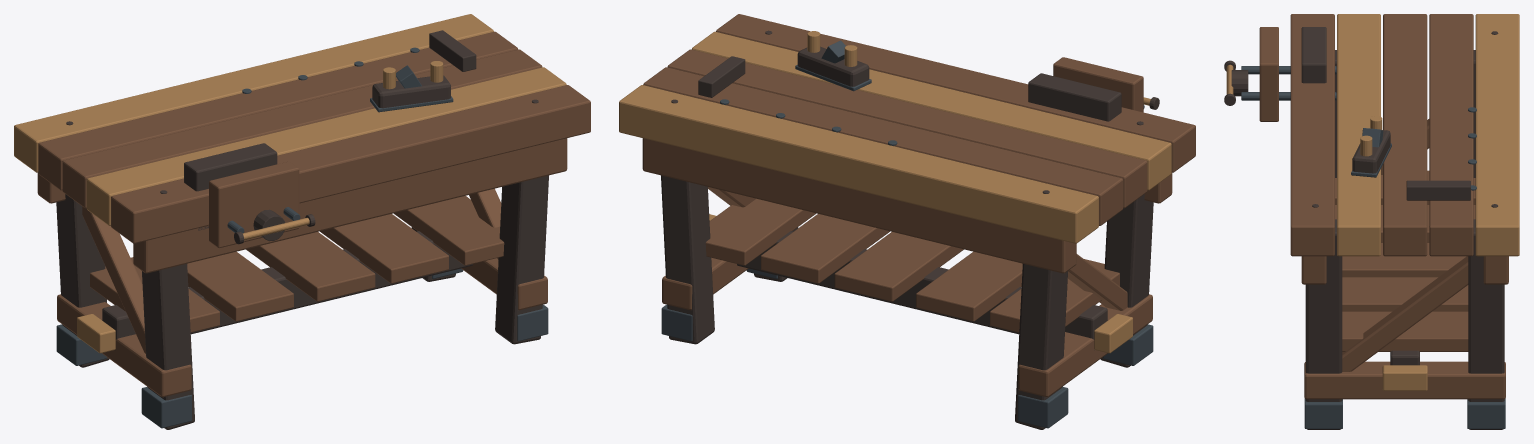
File: carpentry_workbench.glb
3 renders of one model, left to right at view 1: azimuth 30°, elevation 25°; view 2: azimuth 150°, elevation 25°; view 3: azimuth 270°, elevation 25°, orthographic. The views are drawn at different scales.
Parts seen in each view (by area): view 1: Thick top plank, Deep apron, Thick top plank.004, Thick top plank.003, Thick top plank.002, Thick top plank.001, Splayed trestle leg.002, Moving jaw.001, Lower slatted shelf.002, Lower slatted shelf.003, Splayed trestle leg, Lower slatted shelf.001 (+16 smaller); view 2: Thick top plank.004, Deep apron.001, Thick top plank.003, Thick top plank.002, Thick top plank.001, Thick top plank, Splayed trestle leg.003, Lower slatted shelf.002, Lower slatted shelf.003, Splayed trestle leg.001, Lower slatted shelf.001, Lower slatted shelf.004 (+14 smaller); view 3: Thick top plank.004, Thick top plank.002, Thick top plank.003, Thick top plank, Thick top plank.001, Trestle lower tie.001, Splayed trestle leg.002, Splayed trestle leg.003, Diagonal brace.001, Lower slatted shelf.004, Lower slatted shelf.003, Lower slatted shelf.002 (+13 smaller).
Part boxes in pixels (<box>): Thick top plank: <box>111,85,590,243</box>; Deep apron: <box>133,138,567,273</box>; Thick top plank.004: <box>14,14,493,172</box>; Thick top plank.003: <box>38,31,518,190</box>; Thick top plank.002: <box>62,49,542,207</box>; Thick top plank.001: <box>86,67,566,225</box>; Splayed trestle leg.002: <box>495,175,548,344</box>; Moving jaw.001: <box>209,161,299,248</box>; Lower slatted shelf.002: <box>246,232,375,301</box>; Lower slatted shelf.003: <box>320,214,448,283</box>; Splayed trestle leg: <box>142,264,194,429</box>; Lower slatted shelf.001: <box>187,251,293,321</box>; Thick top plank.004: <box>619,85,1098,243</box>; Deep apron.001: <box>642,138,1076,273</box>; Thick top plank.003: <box>643,67,1123,225</box>; Thick top plank.002: <box>667,49,1147,207</box>; Thick top plank.001: <box>691,31,1171,190</box>; Thick top plank: <box>716,14,1195,172</box>; Splayed trestle leg.003: <box>661,175,714,344</box>; Lower slatted shelf.002: <box>834,232,963,301</box>; Lower slatted shelf.003: <box>761,214,889,283</box>; Splayed trestle leg.001: <box>1015,264,1067,429</box>; Lower slatted shelf.001: <box>916,251,1022,321</box>; Lower slatted shelf.004: <box>705,198,816,265</box>; Thick top plank.004: <box>1475,14,1519,256</box>; Thick top plank.002: <box>1383,14,1427,256</box>; Thick top plank.003: <box>1429,14,1473,256</box>; Thick top plank: <box>1290,14,1334,256</box>; Thick top plank.001: <box>1337,14,1380,256</box>; Trestle lower tie.001: <box>1304,361,1505,399</box>; Splayed trestle leg.002: <box>1305,219,1342,429</box>; Splayed trestle leg.003: <box>1468,219,1504,429</box>; Diagonal brace.001: <box>1342,256,1468,371</box>; Lower slatted shelf.004: <box>1342,311,1468,351</box>; Lower slatted shelf.003: <box>1342,277,1468,311</box>; Lower slatted shelf.002: <box>1342,243,1466,277</box>.
Size of the model in its own units: 1.8 by 1.02 by 1.06.
